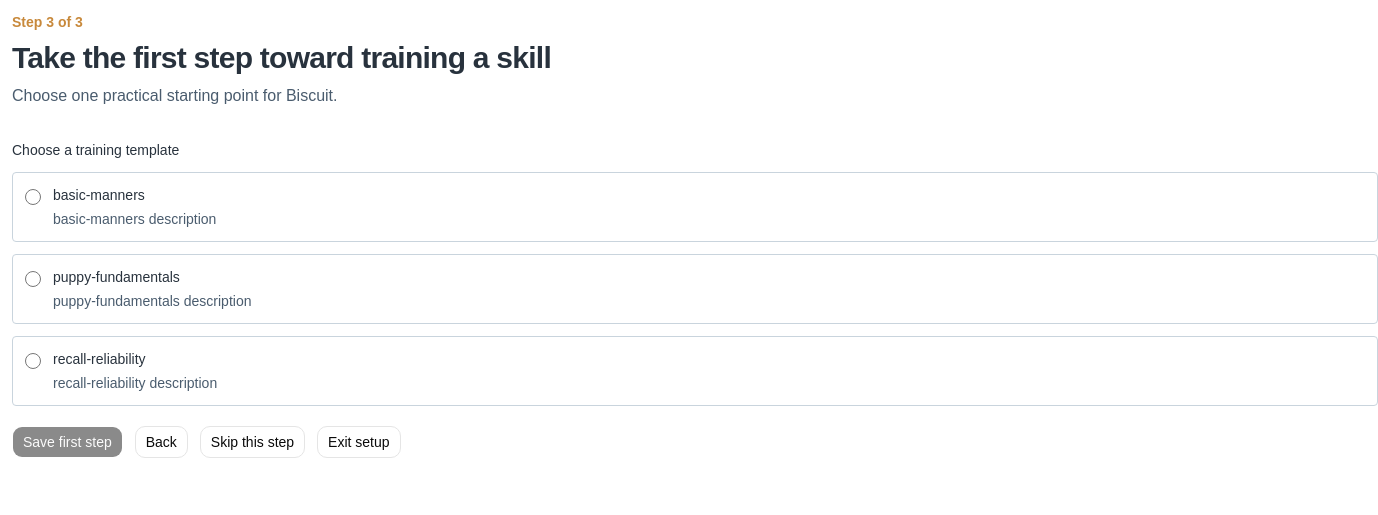
Scenario: TrainingActionStep › maps a historical suggestion conflict to localized safe copy without a preview fallback
Click the radio button labelled "recall-reliability recall-reliability description" at [33, 361], box left=25, top=353, right=41, bottom=369
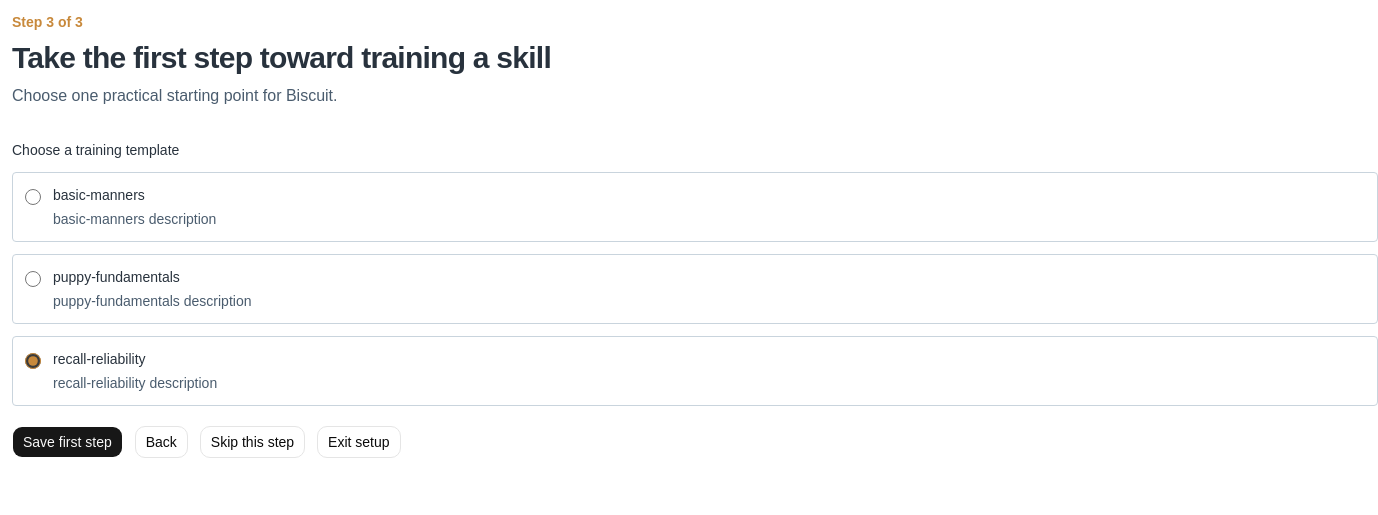
Click the button "Save first step" at [67, 442], box left=12, top=426, right=123, bottom=458
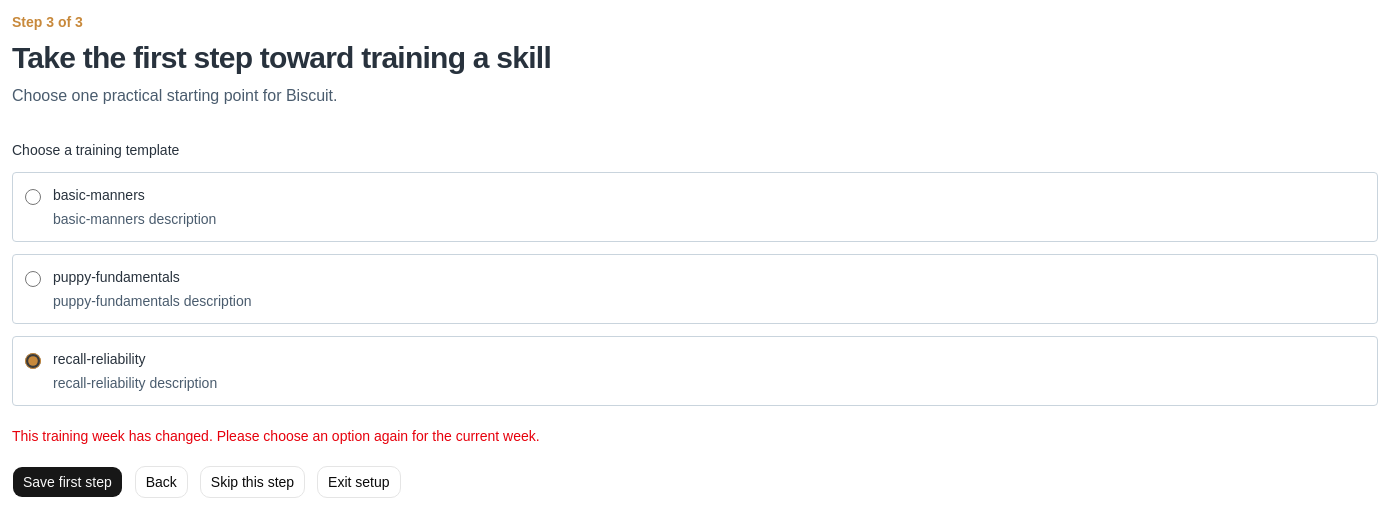
Now the radio button labelled "recall-reliability recall-reliability description" is checked, box left=25, top=353, right=41, bottom=369
Now the message shows "This training week has changed. Please choose an option again for the current week.", box left=12, top=428, right=540, bottom=444
